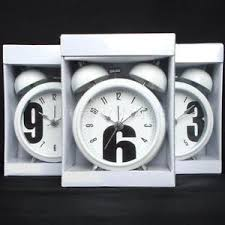alarm_clock: (68, 58, 166, 170)
